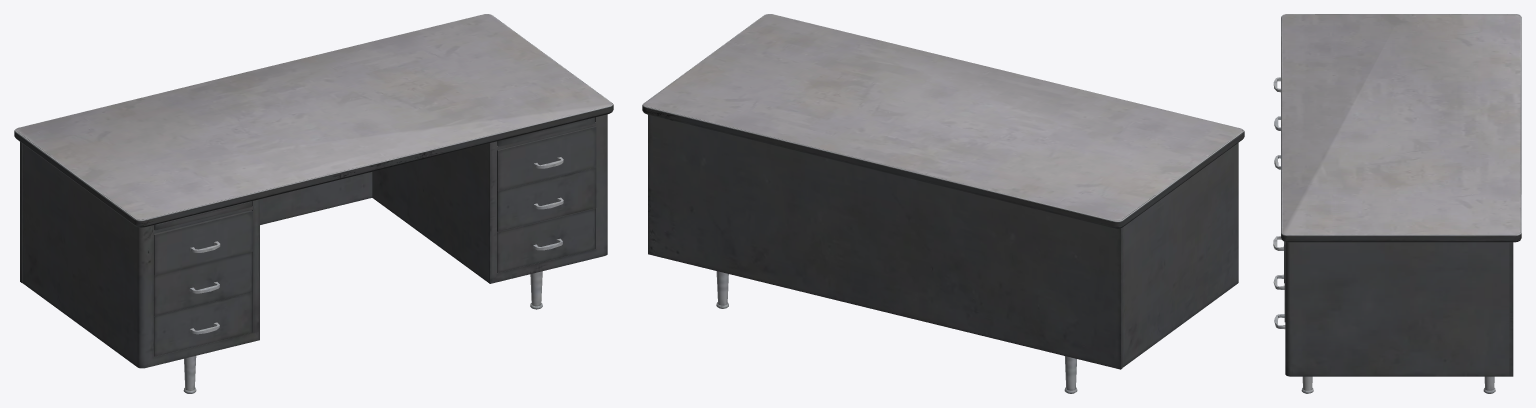
The model's file is metal_office_desk.glb.
3 views of the same model, side by side, from view 1: azimuth 30°, elevation 25°; view 2: azimuth 150°, elevation 25°; view 3: azimuth 270°, elevation 25° (orthographic). The views are drawn at different scales.
Parts seen in each view (by area): view 1: metal_office_desk, metal_office_desk_drawer_04, metal_office_desk_drawer_01, metal_office_desk_drawer_02, metal_office_desk_drawer_03, metal_office_desk_drawer_06, metal_office_desk_drawer_05, metal_office_desk_tray_01, metal_office_desk_tray_02; view 2: metal_office_desk; view 3: metal_office_desk.
Boxes of the visible parts, x1,y1,x2,y2 form: metal_office_desk: [14, 14, 613, 393]; metal_office_desk_drawer_04: [154, 210, 252, 275]; metal_office_desk_drawer_01: [497, 126, 596, 191]; metal_office_desk_drawer_02: [497, 167, 596, 231]; metal_office_desk_drawer_03: [497, 208, 595, 272]; metal_office_desk_drawer_06: [154, 292, 252, 356]; metal_office_desk_drawer_05: [154, 252, 252, 315]; metal_office_desk_tray_01: [154, 201, 252, 230]; metal_office_desk_tray_02: [497, 117, 594, 146]; metal_office_desk: [642, 14, 1244, 393]; metal_office_desk: [1281, 14, 1521, 393].
Bounding box in the file's own units: 2 × 0.7875 × 0.947.
1 material, 1 textured.
